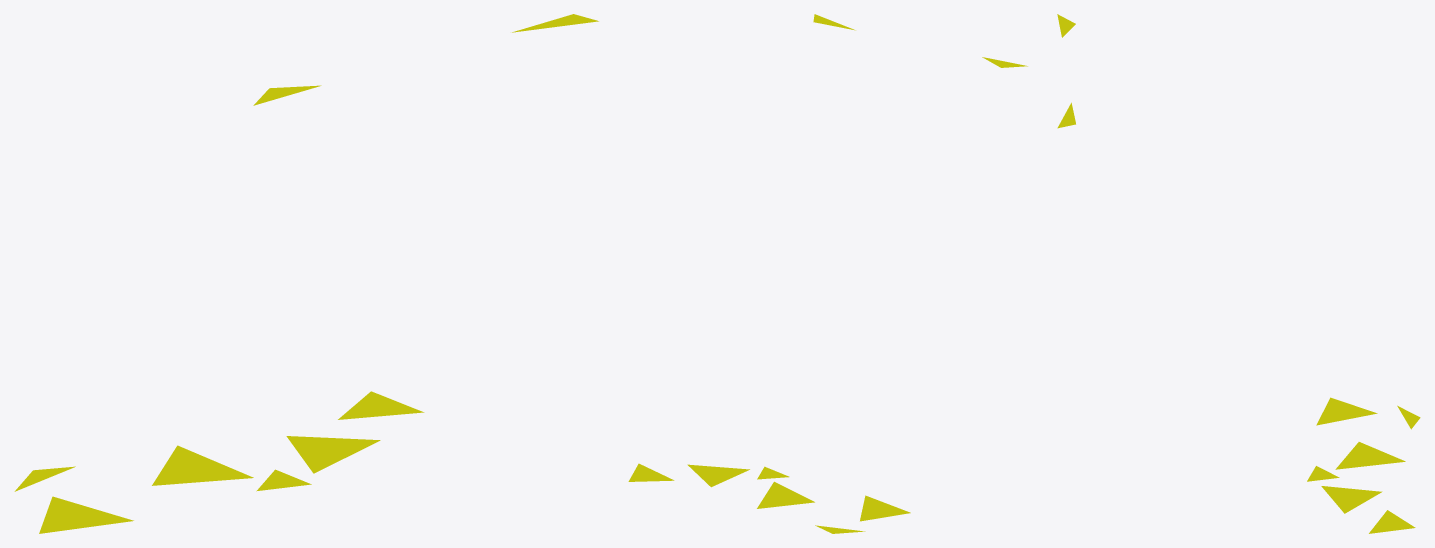
The model's file is window_glass_floor.glb.
The picture shows the model from 3 angles, left to right: view 1: azimuth 30°, elevation 25°; view 2: azimuth 150°, elevation 25°; view 3: azimuth 270°, elevation 25°; orthographic projection. The views are drawn at different scales.
Visible parts, largest first — view 1: window_glass_floor; view 2: window_glass_floor; view 3: window_glass_floor.
Part boxes in pixels (x1=…): window_glass_floor: x1=14, y1=14, x2=598, y2=533; window_glass_floor: x1=628, y1=14, x2=1027, y2=533; window_glass_floor: x1=1057, y1=14, x2=1420, y2=533.
Bounding box in the file's own units: 0.68 × 0.9 × 0.765.
